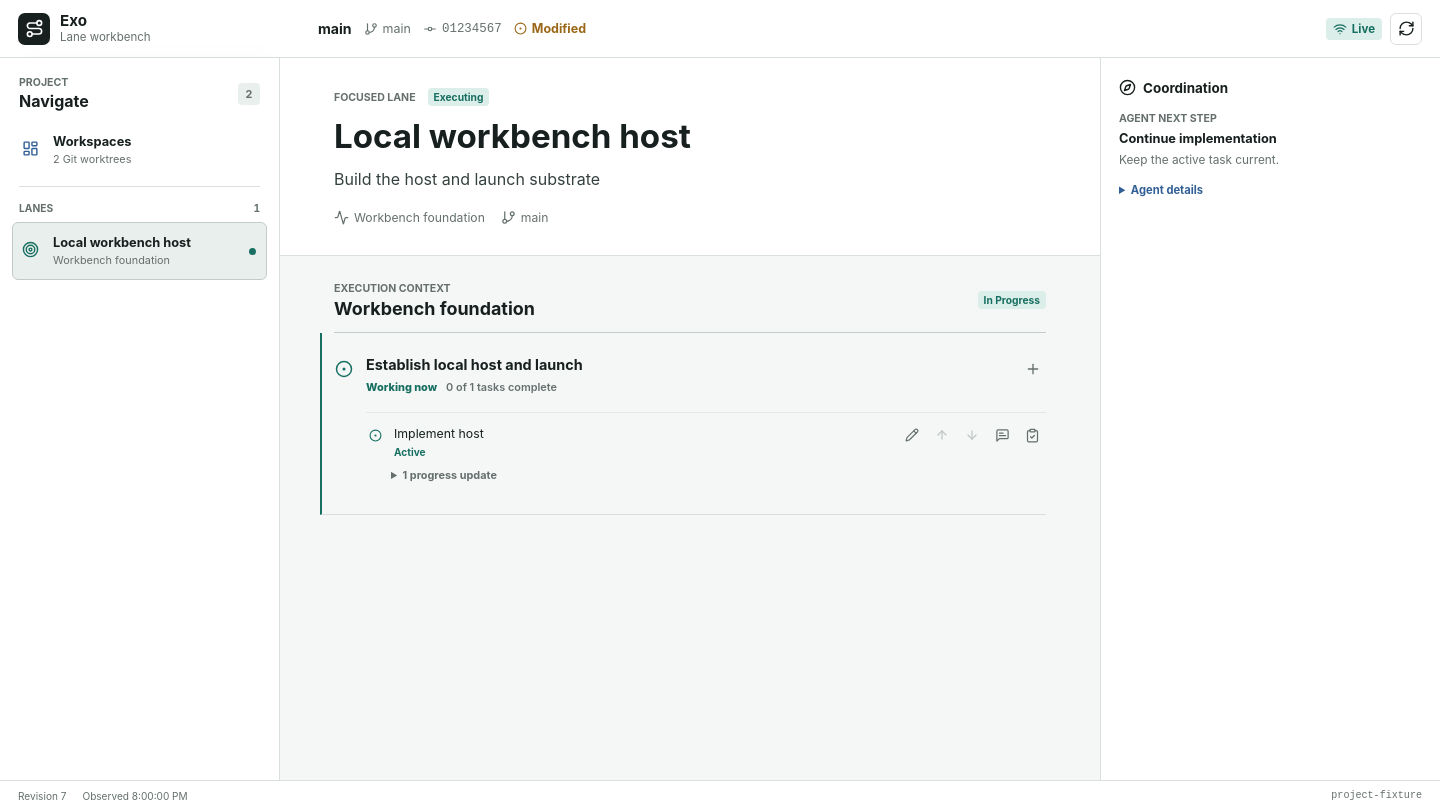
Test: cockpit page › shows a compact recovery boundary when the replacement cannot resume the snapshot
Expected: the heading "Local workbench host" is shown, 334,116 -> 691,156
Click the button named "Refresh workbench" at {"x": 1406, "y": 28}, box 1390,12 -> 1422,44
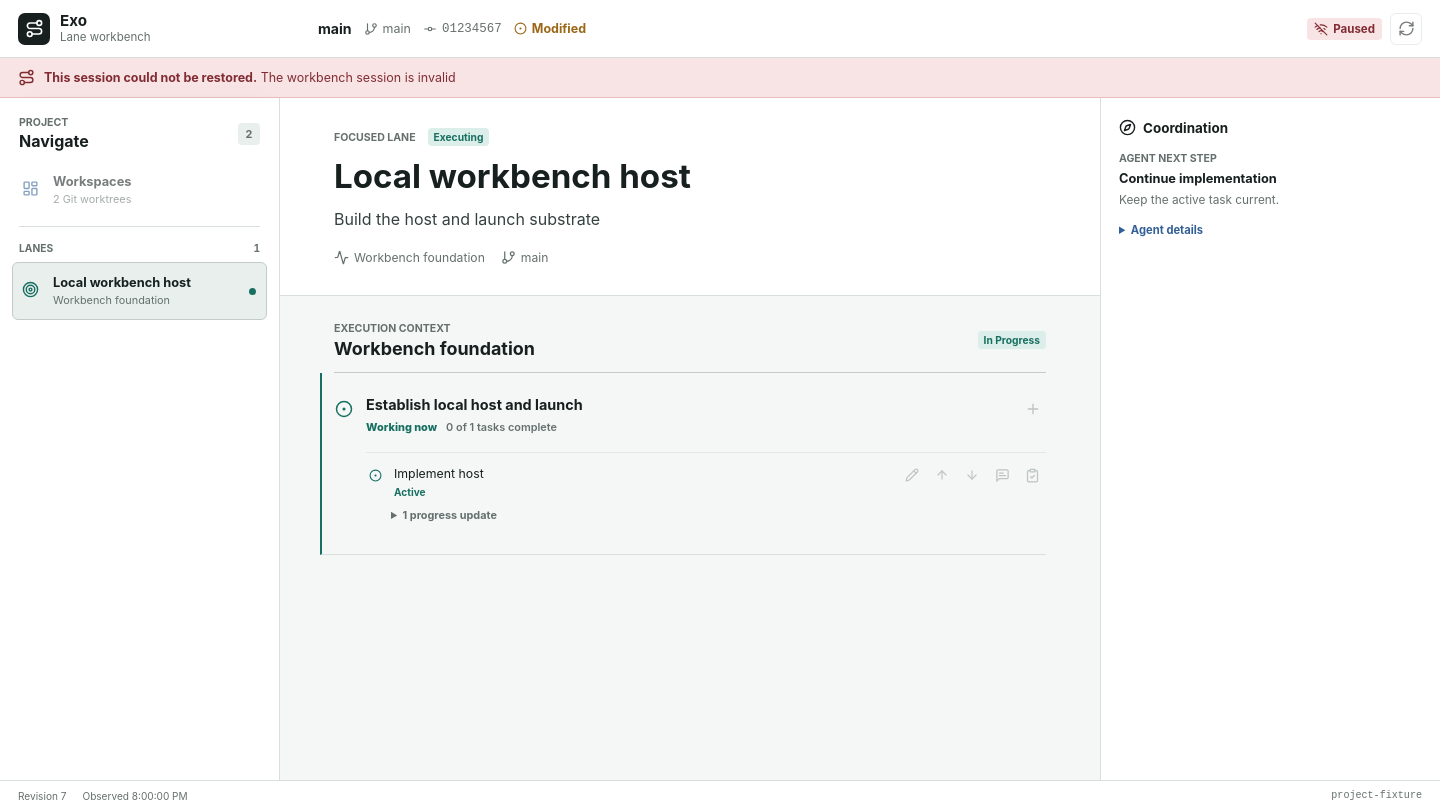
Expected: the heading "Local workbench host" is shown, 334,156 -> 691,196
Now the text "This session could not be restored." is shown, box 44,70 -> 257,85
Now the text "Paused" is shown, box 1307,18 -> 1382,40
